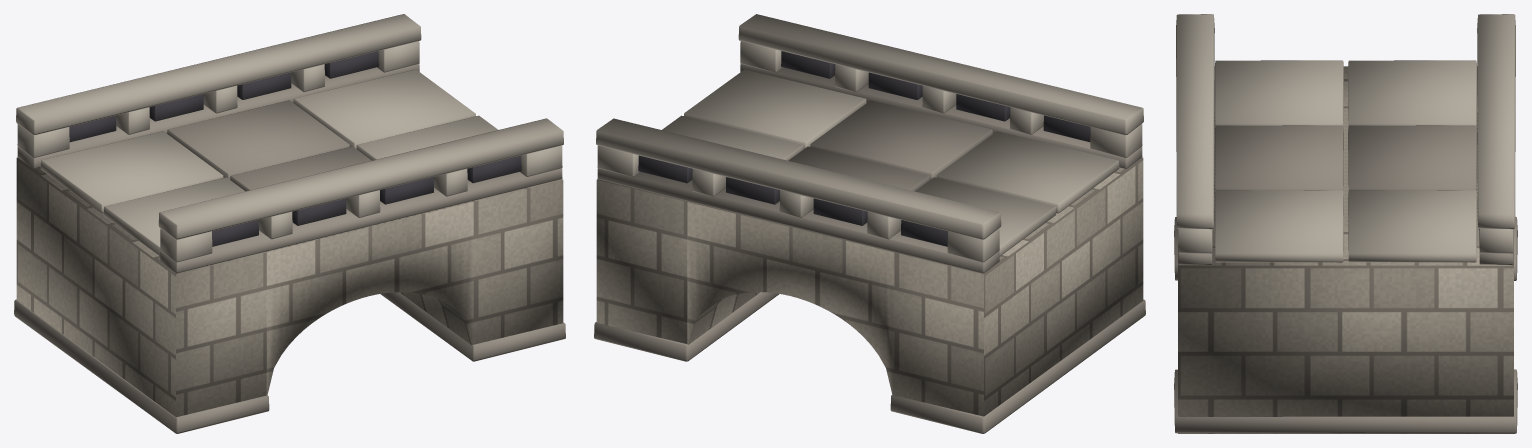
The model's file is 24_bridge_solid.glb.
The picture shows the model from 3 angles, left to right: view 1: azimuth 30°, elevation 25°; view 2: azimuth 150°, elevation 25°; view 3: azimuth 270°, elevation 25°; orthographic projection. The views are drawn at different scales.
Visible parts, largest first — view 1: ArchBody, TopRail_Back, TopRail_Front, DeckSlab_0_-1, DeckSlab_2_-1, DeckSlab_1_-1, Curb_Front, PierTrim_-1, Curb_Back, DeckSlab_0_1, PierTrim_1, DeckSlab_2_1 (+19 smaller); view 2: ArchBody, TopRail_Back, TopRail_Front, DeckSlab_0_1, DeckSlab_2_1, DeckSlab_1_1, Curb_Back, PierTrim_-1, Curb_Front, DeckSlab_0_-1, PierTrim_1, DeckSlab_2_-1 (+19 smaller); view 3: ArchBody, DeckSlab_2_-1, DeckSlab_2_1, DeckSlab_0_-1, DeckSlab_0_1, DeckSlab_1_-1, DeckSlab_1_1, TopRail_Back, TopRail_Front, PierTrim_1, Baluster_Back_4, Baluster_Front_4 (+3 smaller).
Boxes of the visible parts, x1,y1,x2,y2 form: ArchBody: [16, 157, 563, 417]; TopRail_Back: [16, 14, 421, 134]; TopRail_Front: [158, 118, 563, 239]; DeckSlab_0_-1: [40, 131, 223, 213]; DeckSlab_2_-1: [293, 69, 475, 148]; DeckSlab_1_-1: [167, 100, 349, 179]; Curb_Front: [160, 168, 562, 273]; PierTrim_-1: [14, 299, 269, 433]; Curb_Back: [17, 64, 419, 168]; DeckSlab_0_1: [103, 177, 245, 255]; PierTrim_1: [380, 292, 565, 361]; DeckSlab_2_1: [356, 115, 497, 160]; ArchBody: [596, 157, 1143, 416]; TopRail_Back: [596, 118, 1001, 239]; TopRail_Front: [738, 14, 1143, 135]; DeckSlab_0_1: [936, 131, 1119, 213]; DeckSlab_2_1: [684, 69, 866, 149]; DeckSlab_1_1: [810, 100, 992, 179]; Curb_Back: [597, 168, 999, 273]; PierTrim_-1: [890, 299, 1145, 433]; Curb_Front: [740, 64, 1142, 168]; DeckSlab_0_-1: [915, 177, 1056, 256]; PierTrim_1: [594, 292, 779, 361]; DeckSlab_2_-1: [662, 115, 803, 160]; ArchBody: [1178, 66, 1513, 433]; DeckSlab_2_-1: [1348, 190, 1477, 262]; DeckSlab_2_1: [1214, 190, 1343, 262]; DeckSlab_0_-1: [1348, 60, 1477, 125]; DeckSlab_0_1: [1214, 60, 1343, 125]; DeckSlab_1_-1: [1348, 125, 1477, 190]; DeckSlab_1_1: [1214, 125, 1343, 190]; TopRail_Back: [1477, 14, 1515, 229]; TopRail_Front: [1176, 14, 1214, 229]; PierTrim_1: [1174, 369, 1517, 433]; Baluster_Back_4: [1479, 228, 1513, 253]; Baluster_Front_4: [1178, 228, 1212, 253].
Bounding box in the file's own units: 1.9 × 0.9725 × 1.37.
4 materials, 1 textured.
